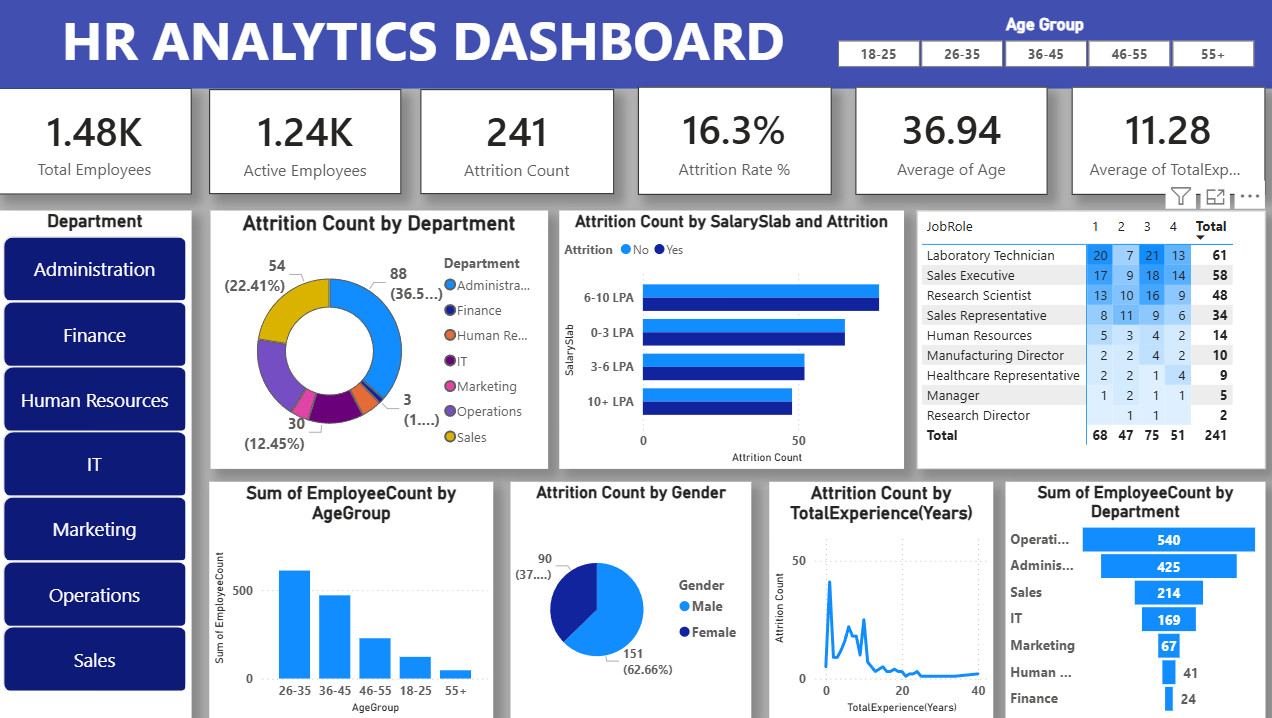

What the dashboard file says about the page in this screenshot:
{"tool":"powerbi","page":{"name":"Page 1","canvas":[1280,720],"ordinal":0},"visuals":[{"type":"cardVisual","fields":{"Data":["HR_Analytics-4.Total Employees Count"]},"box":[0,90.4,193.8,106.2],"z":0},{"type":"shape","box":[0,0,1280.3,90.6],"z":1000},{"type":"textbox","box":[0,0,1280.3,90.6],"z":2000},{"type":"cardVisual","fields":{"Data":["HR_Analytics-4.Active Employees"]},"box":[211,91.9,192.3,104.8],"z":3000},{"type":"cardVisual","fields":{"Data":["HR_Analytics-4.ATTRITION COUNT"]},"box":[422,91.9,193.8,104.8],"z":4000},{"type":"cardVisual","fields":{"Data":["HR_Analytics-4.Attrition Rate %"]},"box":[640.1,89,193.8,107.6],"z":5000},{"type":"cardVisual","fields":{"Data":["Avg(HR_Analytics-4.Age)"]},"box":[856.9,89,192.3,107.6],"z":6000},{"type":"cardVisual","fields":{"Data":["Avg(HR_Analytics-4.TotalExperience(Years))"]},"box":[1073.6,89,193.8,107.6],"z":7000},{"type":"listSlicer","fields":{"Values":["HR_Analytics-4.Department"]},"box":[0,212.4,193.8,508.1],"z":8000},{"type":"donutChart","fields":{"Y":["HR_Analytics-4.ATTRITION COUNT"],"Series":["HR_Analytics-4.Department"]},"box":[212.4,212.4,337.3,258.4],"z":9000},{"type":"columnChart","fields":{"Category":["HR_Analytics-4.AgeGroup"],"Y":["Sum(HR_Analytics-4.EmployeeCount)"]},"box":[211,483.7,284.2,236.8],"z":10000},{"type":"clusteredBarChart","fields":{"Category":["HR_Analytics-4.SalarySlab"],"Y":["HR_Analytics-4.Attrition Count"],"Series":["HR_Analytics-4.Attrition"]},"box":[561.2,212.4,344.5,258.4],"z":11000},{"type":"pivotTable","fields":{"Rows":["HR_Analytics-4.JobRole"],"Values":["HR_Analytics-4.Attrition Count"],"Columns":["HR_Analytics-4.JobSatisfaction"]},"box":[918.6,212.4,348.8,258.4],"z":12000},{"type":"pieChart","fields":{"Category":["HR_Analytics-4.Gender"],"Y":["HR_Analytics-4.Attrition Count"]},"box":[512.4,483.7,241.1,236.8],"z":13000},{"type":"lineChart","fields":{"Category":["HR_Analytics-4.TotalExperience(Years)"],"Y":["HR_Analytics-4.Attrition Count"]},"box":[770.8,483.7,223.9,236.8],"z":14000},{"type":"funnel","fields":{"Category":["HR_Analytics-4.Department"],"Y":["Sum(HR_Analytics-4.EmployeeCount)"]},"box":[1007.6,483.7,259.8,236.8],"z":15000},{"type":"slicer","title":"Age Group","fields":{"Values":["HR_Analytics-4.AgeGroup"]},"box":[813.8,16.6,466.4,59.5],"z":15001}]}

Visuals, with their boxes in screenshot pixels (x1, y1, x2, y2), scaled from the page's 1280x720 canvas onto the 1272x718 screenshot:
cardVisual - HR_Analytics-4.Total Employees Count: 0, 90, 193, 196
shape: 0, 0, 1271, 90
textbox: 0, 0, 1271, 90
cardVisual - HR_Analytics-4.Active Employees: 210, 92, 401, 196
cardVisual - HR_Analytics-4.ATTRITION COUNT: 419, 92, 612, 196
cardVisual - HR_Analytics-4.Attrition Rate %: 636, 89, 829, 196
cardVisual - Avg(HR_Analytics-4.Age): 852, 89, 1043, 196
cardVisual - Avg(HR_Analytics-4.TotalExperience(Years)): 1067, 89, 1259, 196
listSlicer - HR_Analytics-4.Department: 0, 212, 193, 717
donutChart - HR_Analytics-4.ATTRITION COUNT x HR_Analytics-4.Department: 211, 212, 546, 469
columnChart - HR_Analytics-4.AgeGroup x Sum(HR_Analytics-4.EmployeeCount): 210, 482, 492, 717
clusteredBarChart - HR_Analytics-4.SalarySlab x HR_Analytics-4.Attrition Count: 558, 212, 900, 469
pivotTable - HR_Analytics-4.JobRole x HR_Analytics-4.Attrition Count: 913, 212, 1259, 469
pieChart - HR_Analytics-4.Gender x HR_Analytics-4.Attrition Count: 509, 482, 749, 717
lineChart - HR_Analytics-4.TotalExperience(Years) x HR_Analytics-4.Attrition Count: 766, 482, 988, 717
funnel - HR_Analytics-4.Department x Sum(HR_Analytics-4.EmployeeCount): 1001, 482, 1259, 717
"Age Group" slicer: 809, 17, 1271, 76
